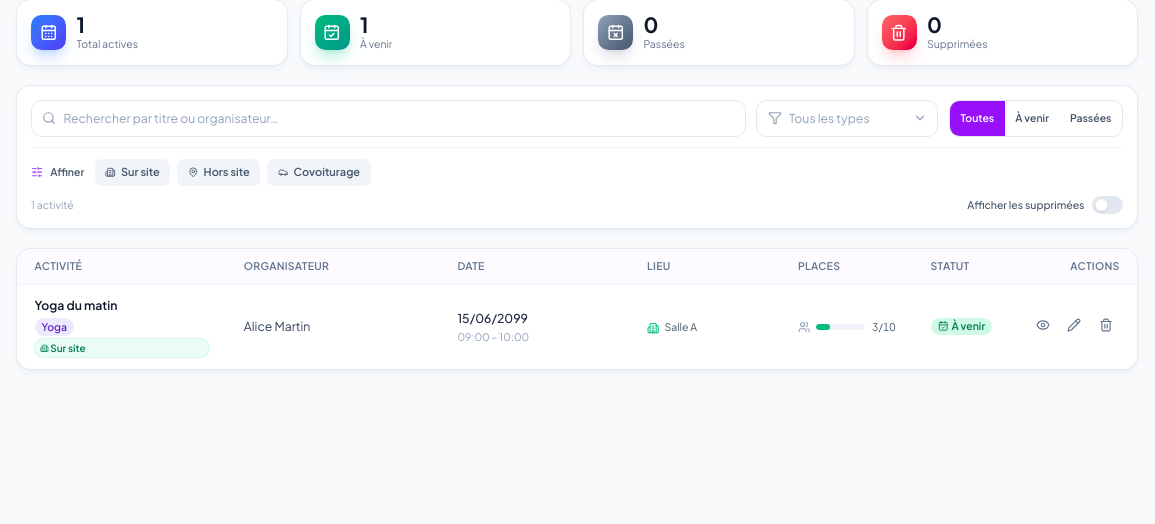
Test: AdminActivitiesPage › affiche l'état vide si la recherche ne correspond à rien
In the field with placeholder "Rechercher par titre ou organisateur…": (388, 118) [31, 100, 746, 137], type "zzz_inexistant"
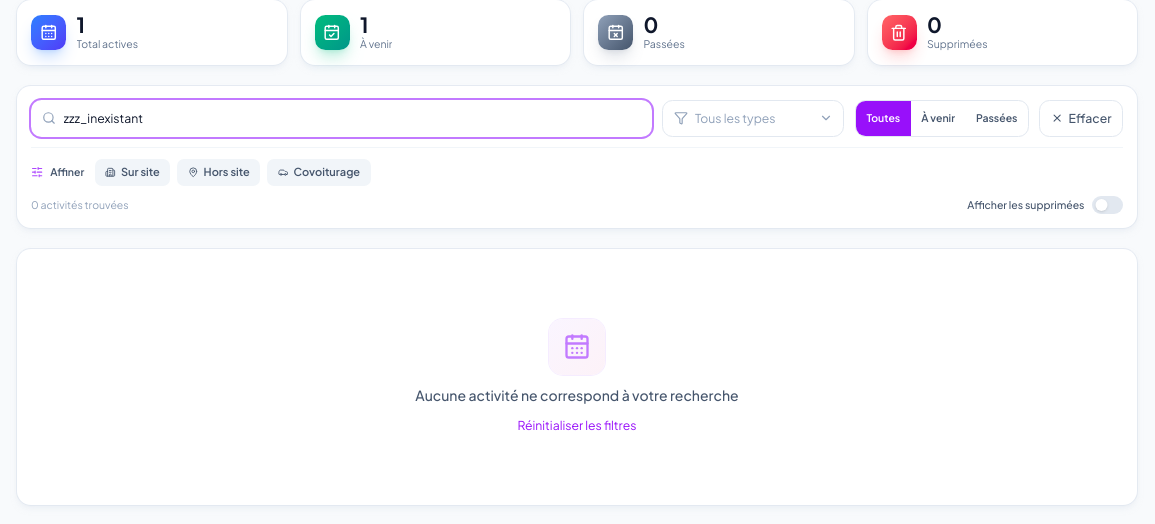
Check: the text "Aucune activité ne correspond à votre recherche" is shown, box [415, 386, 739, 404]
